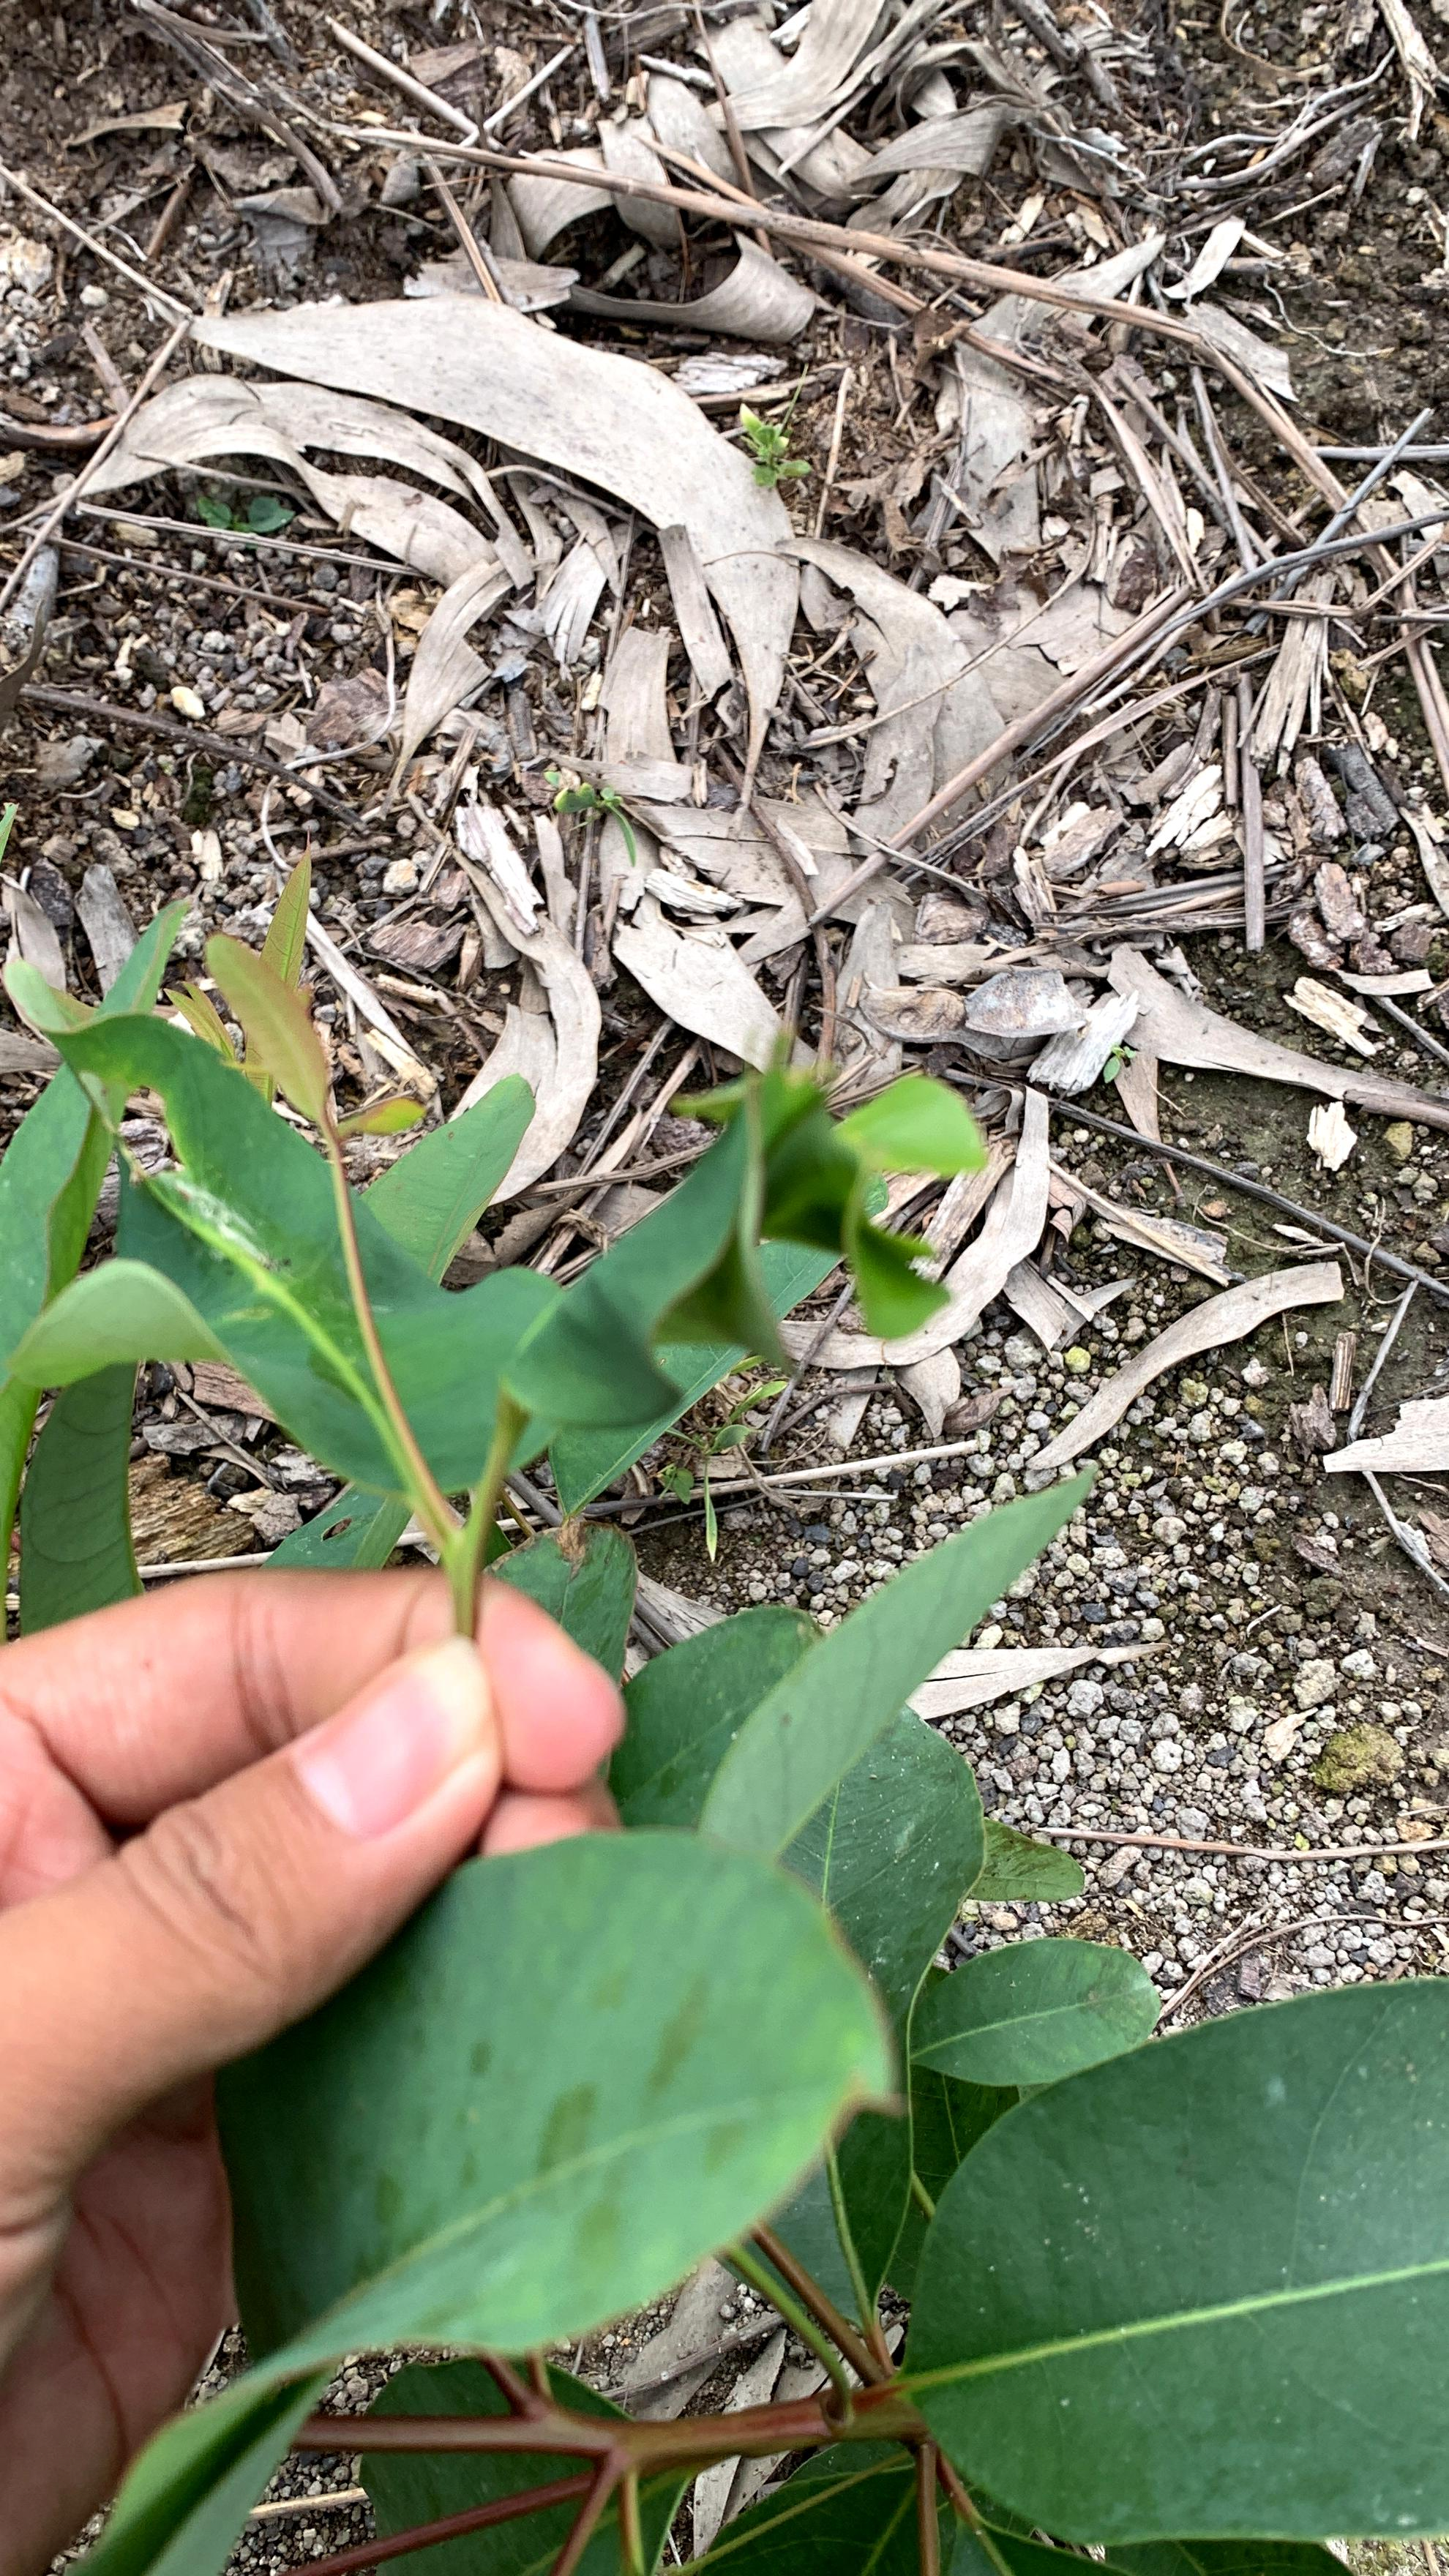Leaf Roller - Leaf: (548, 1063, 1017, 1472)
